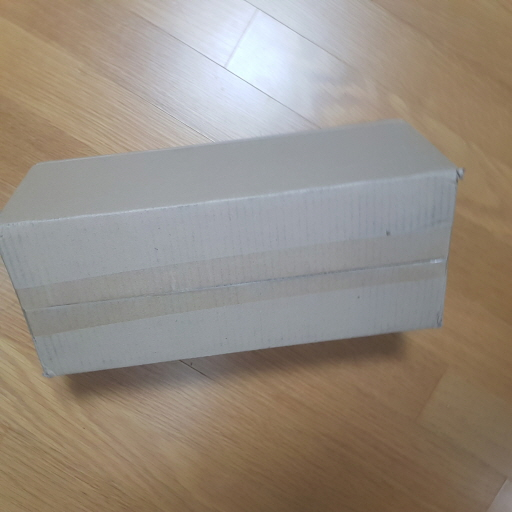Paper_0: (1, 116, 476, 389)
